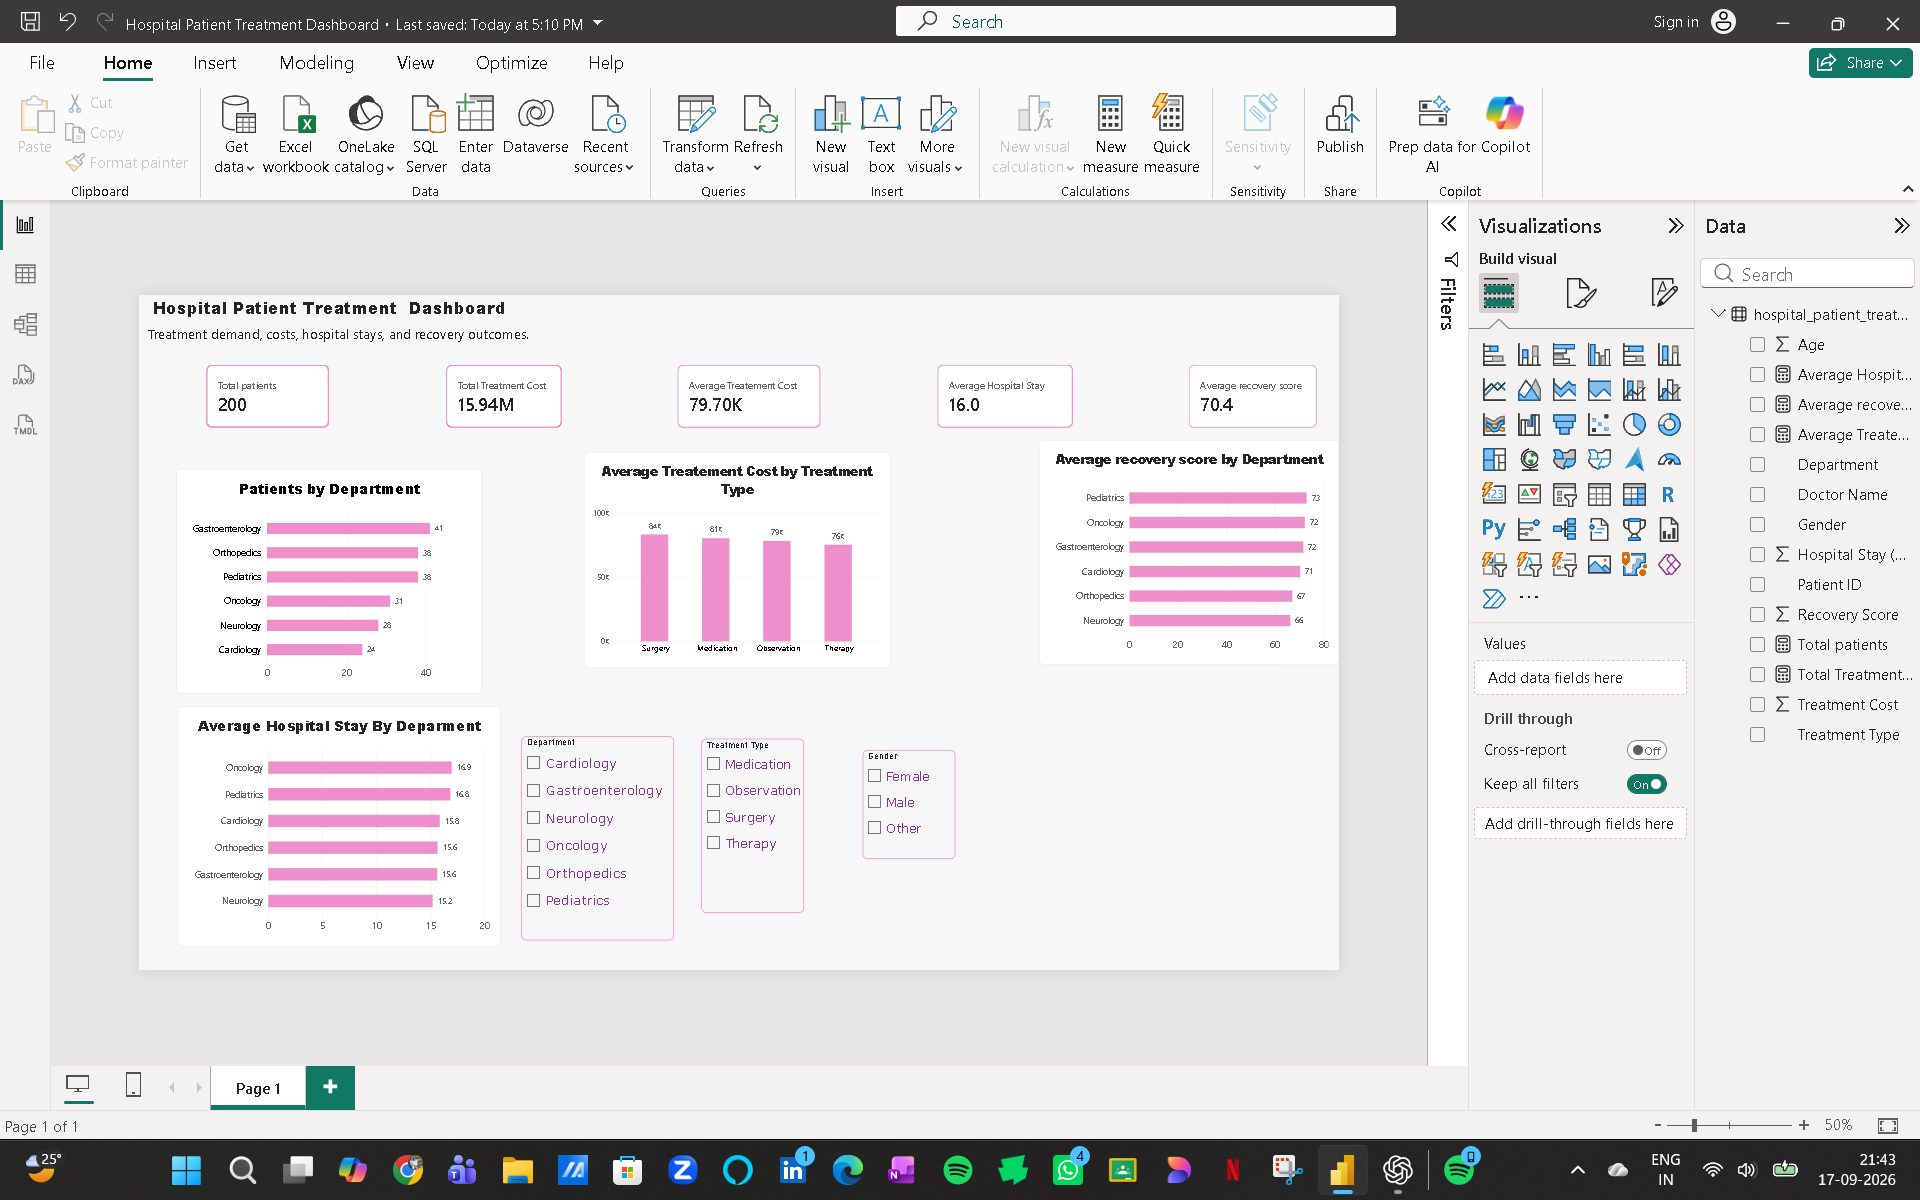

Layout of this report page (visuals, bound fields, positions):
{"tool":"powerbi","page":{"name":"Page 1","canvas":[1920,1080],"ordinal":0},"visuals":[{"type":"cardVisual","fields":{"Data":["hospital_patient_treatment_dataset.Average Hospital Stay"]},"box":[1278,112,216,100],"z":0},{"type":"cardVisual","fields":{"Data":["hospital_patient_treatment_dataset.Average Treatement Cost"]},"box":[862,112,228,100],"z":1000},{"type":"cardVisual","fields":{"Data":["hospital_patient_treatment_dataset.Total patients"]},"box":[108,112,196,100],"z":2000},{"type":"cardVisual","fields":{"Data":["hospital_patient_treatment_dataset.Total Treatment Cost"]},"box":[492,112,184,100],"z":3000},{"type":"cardVisual","fields":{"Data":["hospital_patient_treatment_dataset.Average recovery score"]},"box":[1680,112,204,100],"z":4000},{"type":"textbox","box":[0,0,608,60],"z":4001},{"type":"textbox","box":[0,46,638,48],"z":4002},{"type":"clusteredBarChart","title":"Patients by Department","fields":{"Category":["hospital_patient_treatment_dataset.Department"],"Y":["hospital_patient_treatment_dataset.Total patients"]},"box":[60,278,488,360],"z":4003},{"type":"columnChart","title":"Average Treatement Cost by Treatment  Type","fields":{"Category":["hospital_patient_treatment_dataset.Treatment Type"],"Y":["hospital_patient_treatment_dataset.Average Treatement Cost"]},"box":[712,252,490,344],"z":4004},{"type":"clusteredBarChart","title":"Average Hospital Stay By Deparment","fields":{"Category":["hospital_patient_treatment_dataset.Department"],"Y":["hospital_patient_treatment_dataset.Average Hospital Stay"]},"box":[62,658,516.6,384.9],"z":4005},{"type":"clusteredBarChart","title":"Average recovery score by Department","fields":{"Category":["hospital_patient_treatment_dataset.Department"],"Y":["hospital_patient_treatment_dataset.Average recovery score"]},"box":[1440,232,480,360],"z":4006},{"type":"slicer","title":"Department","fields":{"Values":["hospital_patient_treatment_dataset.Department"]},"box":[612,706,244,326],"z":4007},{"type":"slicer","title":"Treatment Type","fields":{"Values":["hospital_patient_treatment_dataset.Treatment Type"]},"box":[900,710,164,278],"z":4008},{"type":"slicer","fields":{"Values":["hospital_patient_treatment_dataset.Gender"]},"box":[1158,728,148,174],"z":4009}]}

Visuals, with their boxes on the page's 1920x1080 design canvas (x1, y1, x2, y2). These are canvas units, not pixel positions in the 1920x1200 screenshot, which may show the page scaled, cropped or inside an application window:
cardVisual - hospital_patient_treatment_dataset.Average Hospital Stay: 1278,112,1494,212
cardVisual - hospital_patient_treatment_dataset.Average Treatement Cost: 862,112,1090,212
cardVisual - hospital_patient_treatment_dataset.Total patients: 108,112,304,212
cardVisual - hospital_patient_treatment_dataset.Total Treatment Cost: 492,112,676,212
cardVisual - hospital_patient_treatment_dataset.Average recovery score: 1680,112,1884,212
textbox: 0,0,608,60
textbox: 0,46,638,94
"Patients by Department" clusteredBarChart: 60,278,548,638
"Average Treatement Cost by Treatment  Type" columnChart: 712,252,1202,596
"Average Hospital Stay By Deparment" clusteredBarChart: 62,658,579,1043
"Average recovery score by Department" clusteredBarChart: 1440,232,1920,592
"Department" slicer: 612,706,856,1032
"Treatment Type" slicer: 900,710,1064,988
slicer - hospital_patient_treatment_dataset.Gender: 1158,728,1306,902
